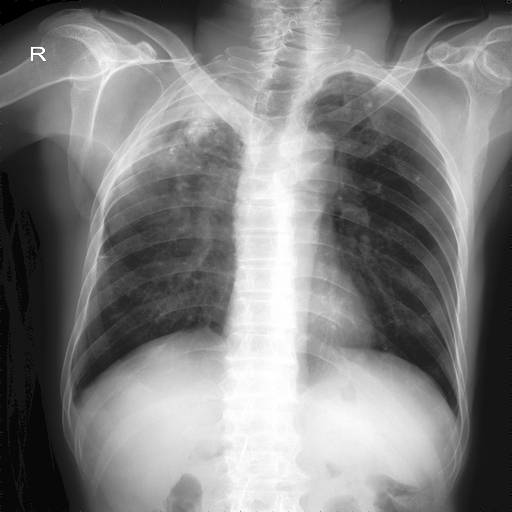Calcification: (115, 69, 258, 175), (70, 393, 81, 413), (352, 73, 372, 83)
ILD: (135, 74, 256, 195)
Infiltration: (153, 66, 257, 117)
Pleural effusion: (70, 393, 81, 413)
Pleural thickening: (135, 74, 256, 195)
Pneumothorax: (119, 118, 224, 217), (337, 88, 391, 142), (340, 80, 356, 116), (96, 253, 112, 260)
